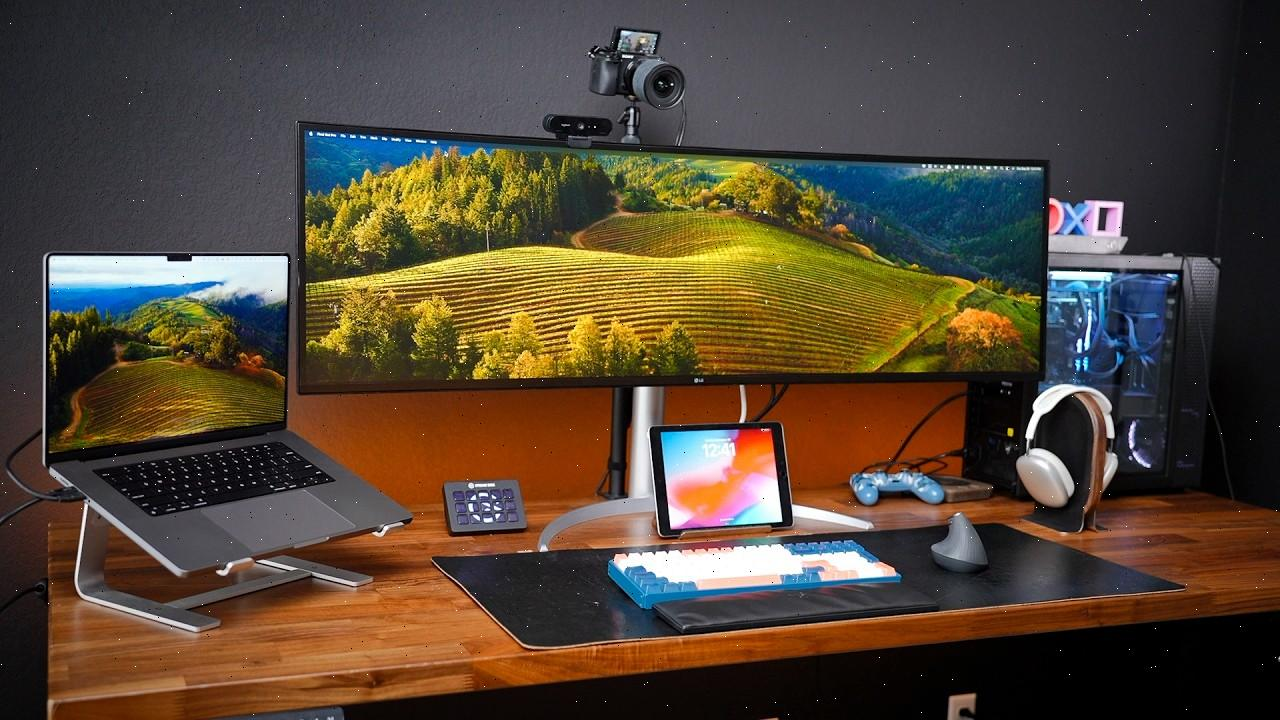keyboard: (592, 534, 910, 606)
mouse: (920, 504, 1001, 585)
pc: (951, 244, 1240, 504)
